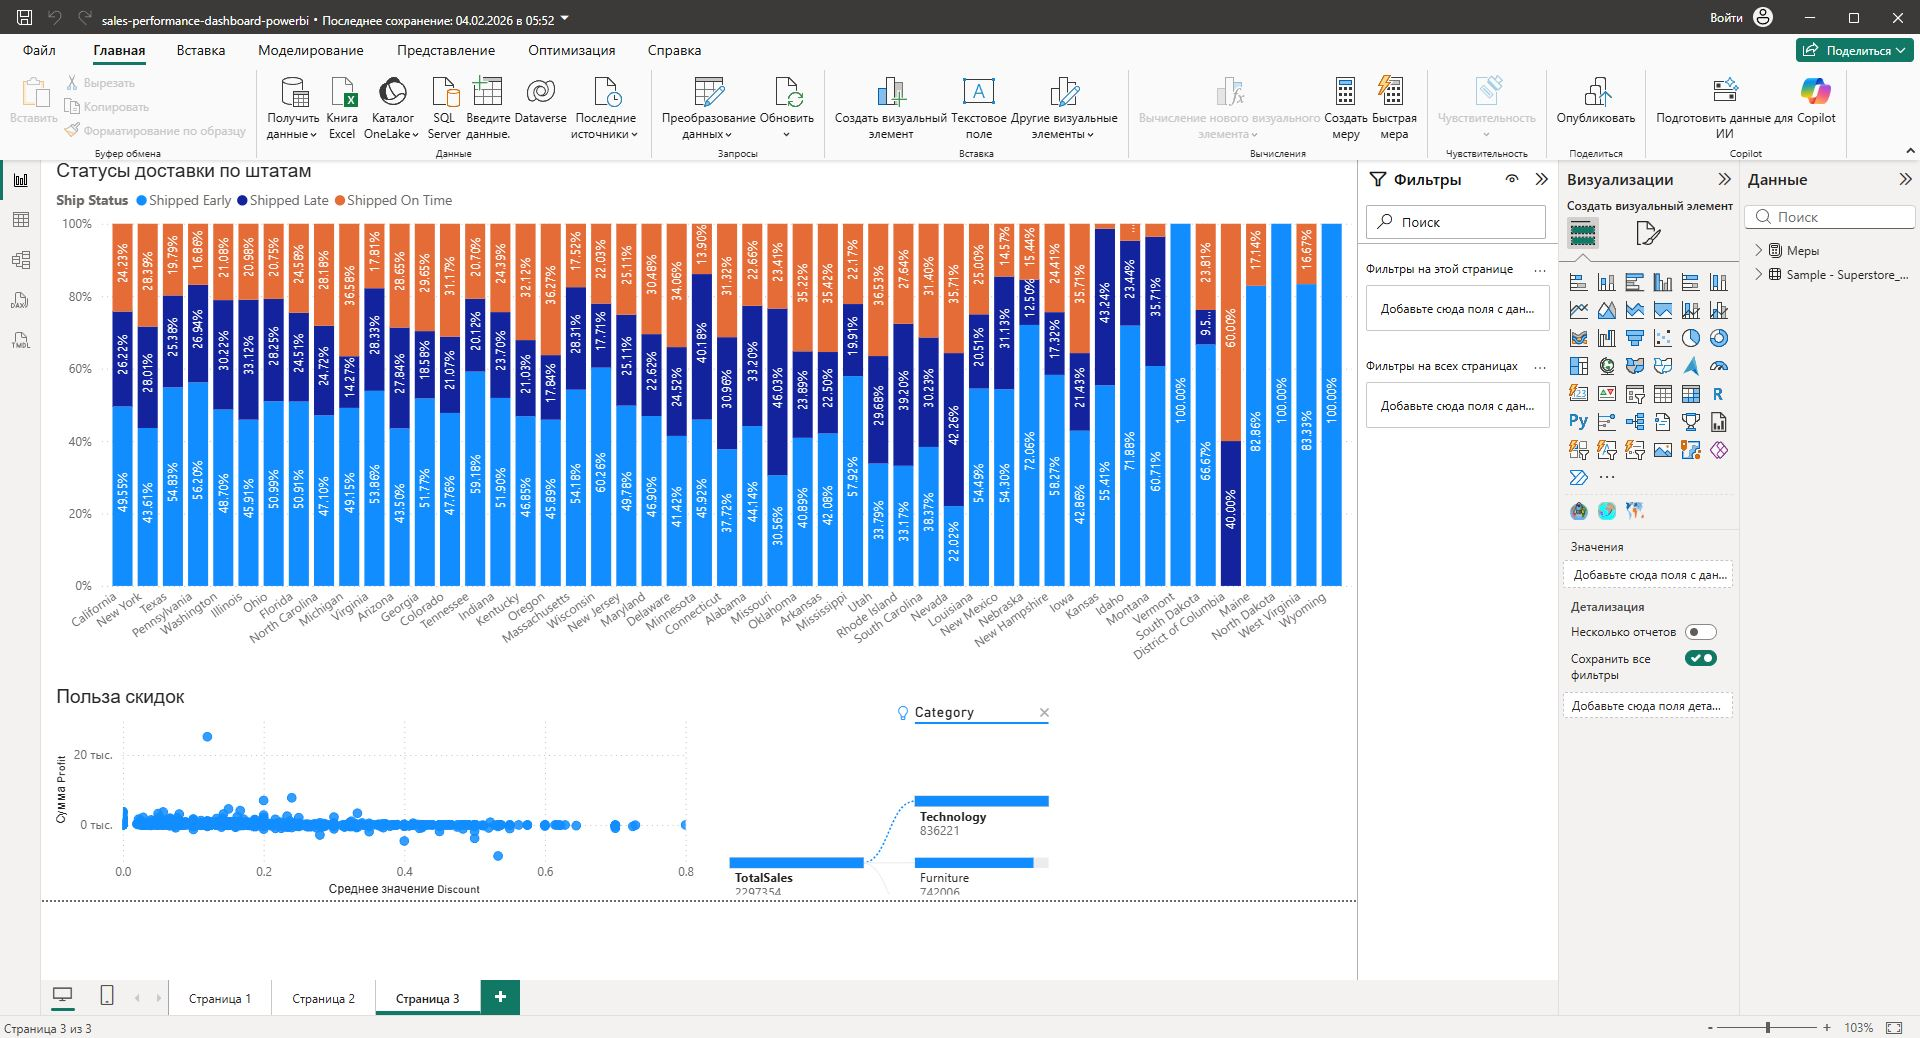

The dashboard page shown, as its layout file describes it:
{"tool":"powerbi","page":{"name":"Страница 3","canvas":[1280,720],"ordinal":2},"visuals":[{"type":"hundredPercentStackedColumnChart","title":"Статусы доставки по штатам","fields":{"Category":["Sample - Superstore_Orders.State"],"Series":["Sample - Superstore_Orders.Ship Status"],"Y":["Меры.TotalQuantity"]},"box":[9.7,0,1270.3,511.6],"z":0},{"type":"scatterChart","title":"Польза скидок ","fields":{"Category":["Sample - Superstore_Orders.Product Name"],"X":["Avg(Sample - Superstore_Orders.Discount)"],"Y":["Sum(Sample - Superstore_Orders.Profit)"]},"box":[9.7,511.6,630.3,208.1],"z":1},{"type":"decompositionTreeVisual","fields":{"ExplainBy":["Sample - Superstore_Orders.Category"],"Analyze":["Меры.TotalSales"]},"box":[640,511.6,640,208.1],"z":2}]}

Visuals, with their boxes on the page's 1280x720 design canvas (x1, y1, x2, y2). These are canvas units, not pixel positions in the 1920x1038 screenshot, which may show the page scaled, cropped or inside an application window:
"Статусы доставки по штатам" hundredPercentStackedColumnChart: (10,0,1280,512)
"Польза скидок " scatterChart: (10,512,640,720)
decompositionTreeVisual - Sample - Superstore_Orders.Category x Меры.TotalSales: (640,512,1280,720)
